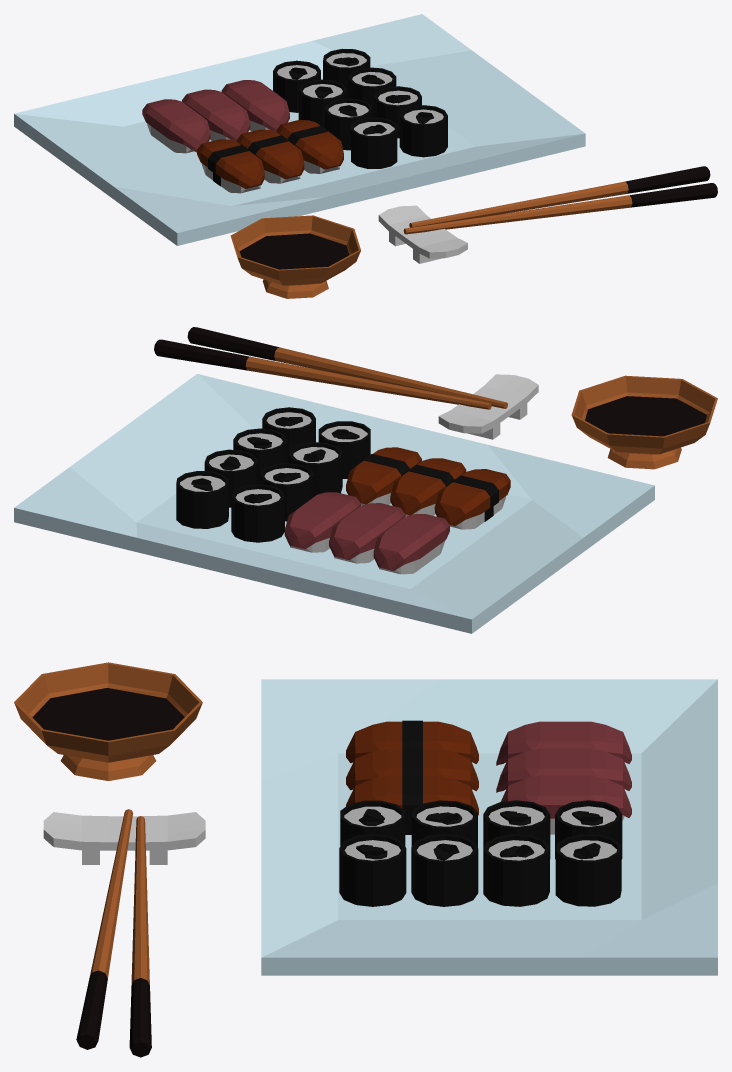
File: set.obj
3 views of the same model, one above another, from view 1: azimuth 30°, elevation 25°; view 2: azimuth 150°, elevation 25°; view 3: azimuth 270°, elevation 25° (orthographic). The views are drawn at different scales.
Parts seen in each view (by area): view 1: Box002_Меш.004, Cylinder004_Меш, Cylinder005_Меш.002, Cylinder007_Меш.003, Capsule003_Меш.005, Capsule004_Меш.006, Box001_Меш.001, Cylinder015_Меш.018, Capsule006_Меш.008, Capsule008_Меш.010, Cylinder011_Меш.014, Capsule005_Меш.007 (+7 smaller); view 2: Box002_Меш.004, Cylinder004_Меш, Cylinder007_Меш.003, Cylinder005_Меш.002, Capsule004_Меш.006, Box001_Меш.001, Capsule003_Меш.005, Cylinder008_Меш.011, Capsule005_Меш.007, Capsule007_Меш.009, Cylinder012_Меш.015, Capsule008_Меш.010 (+7 smaller); view 3: Box002_Меш.004, Cylinder004_Меш, Box001_Меш.001, Cylinder014_Меш.017, Cylinder015_Меш.018, Cylinder012_Меш.015, Cylinder013_Меш.016, Cylinder005_Меш.002, Cylinder007_Меш.003, Capsule004_Меш.006, Capsule005_Меш.007, Capsule006_Меш.008 (+7 smaller).
Boxes of the visible parts, left/top/right/bottom form: Box002_Меш.004: left=14, top=14, right=585, bottom=245; Cylinder004_Меш: left=230, top=215, right=360, bottom=298; Cylinder005_Меш.002: left=403, top=183, right=717, bottom=234; Cylinder007_Меш.003: left=409, top=166, right=710, bottom=227; Capsule003_Меш.005: left=197, top=139, right=264, bottom=193; Capsule004_Меш.006: left=142, top=99, right=210, bottom=153; Box001_Меш.001: left=378, top=205, right=467, bottom=263; Cylinder015_Меш.018: left=399, top=105, right=447, bottom=157; Capsule006_Меш.008: left=236, top=129, right=304, bottom=183; Capsule008_Меш.010: left=276, top=120, right=343, bottom=173; Cylinder011_Меш.014: left=351, top=117, right=397, bottom=168; Capsule005_Меш.007: left=182, top=89, right=250, bottom=141; Box002_Меш.004: left=14, top=374, right=654, bottom=633; Cylinder004_Меш: left=571, top=375, right=717, bottom=469; Cylinder007_Меш.003: left=154, top=339, right=491, bottom=409; Cylinder005_Меш.002: left=187, top=327, right=507, bottom=408; Capsule004_Меш.006: left=373, top=514, right=449, bottom=574; Box001_Меш.001: left=438, top=374, right=538, bottom=439; Capsule003_Меш.005: left=434, top=469, right=510, bottom=529; Cylinder008_Меш.011: left=231, top=484, right=284, bottom=542; Capsule005_Меш.007: left=329, top=503, right=405, bottom=563; Capsule007_Меш.009: left=284, top=492, right=361, bottom=552; Cylinder012_Меш.015: left=176, top=471, right=228, bottom=528; Capsule008_Меш.010: left=346, top=447, right=421, bottom=505; Box002_Меш.004: left=261, top=679, right=717, bottom=975; Cylinder004_Меш: left=14, top=662, right=202, bottom=780; Box001_Меш.001: left=43, top=812, right=205, bottom=864; Cylinder014_Меш.017: left=411, top=834, right=478, bottom=906; Cylinder015_Меш.018: left=339, top=834, right=406, bottom=906; Cylinder012_Меш.015: left=555, top=834, right=621, bottom=906; Cylinder013_Меш.016: left=483, top=834, right=549, bottom=906; Cylinder005_Меш.002: left=76, top=809, right=132, bottom=1049; Cylinder007_Меш.003: left=129, top=816, right=151, bottom=1057; Capsule004_Меш.006: left=496, top=721, right=631, bottom=765; Capsule005_Меш.007: left=496, top=748, right=631, bottom=792; Capsule006_Меш.008: left=346, top=747, right=478, bottom=791.
Bounding box in the file's own units: 12.49 × 1.3 × 11.19.
